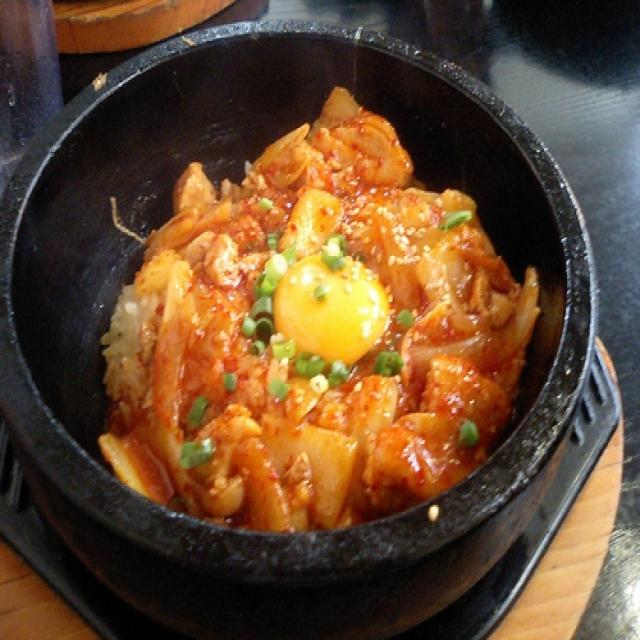鸡肉料理 含炸鸡: (54, 50, 562, 546)
